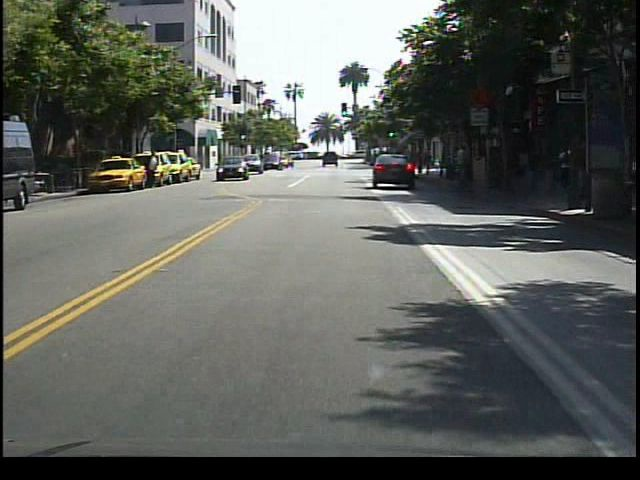person: (452, 140, 473, 197), (146, 148, 163, 192)
